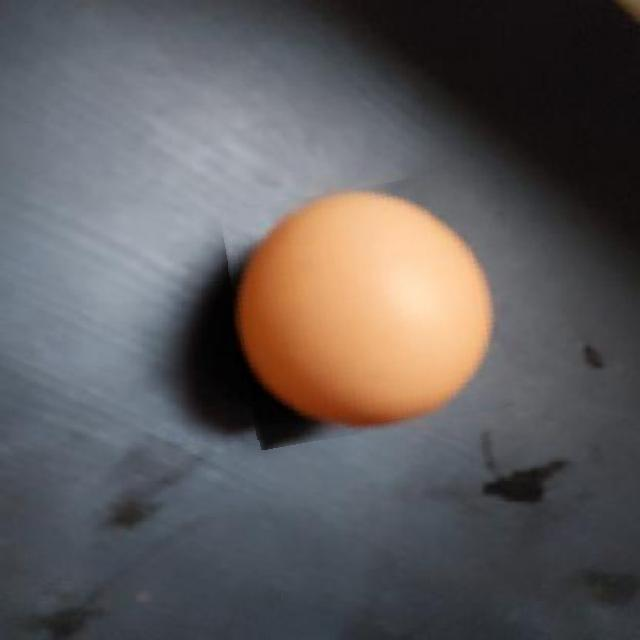biodegradable: (228, 177, 506, 440)
